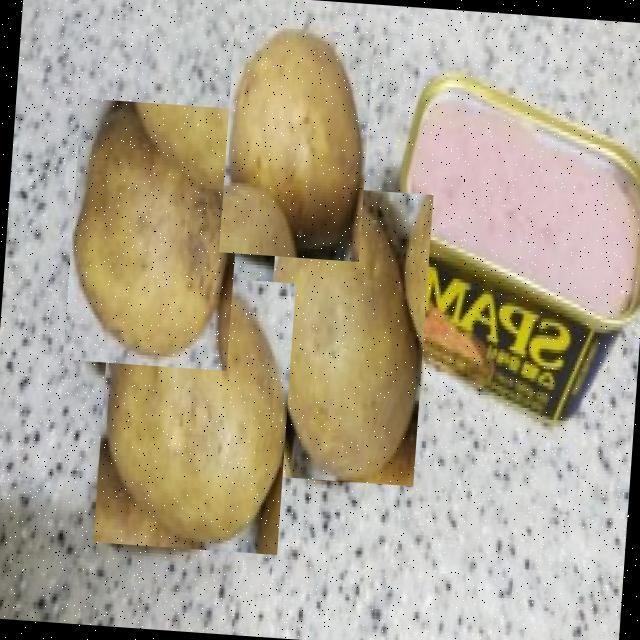Potato: (92, 270, 295, 554), (258, 183, 432, 485), (62, 96, 244, 370), (218, 23, 374, 260)
